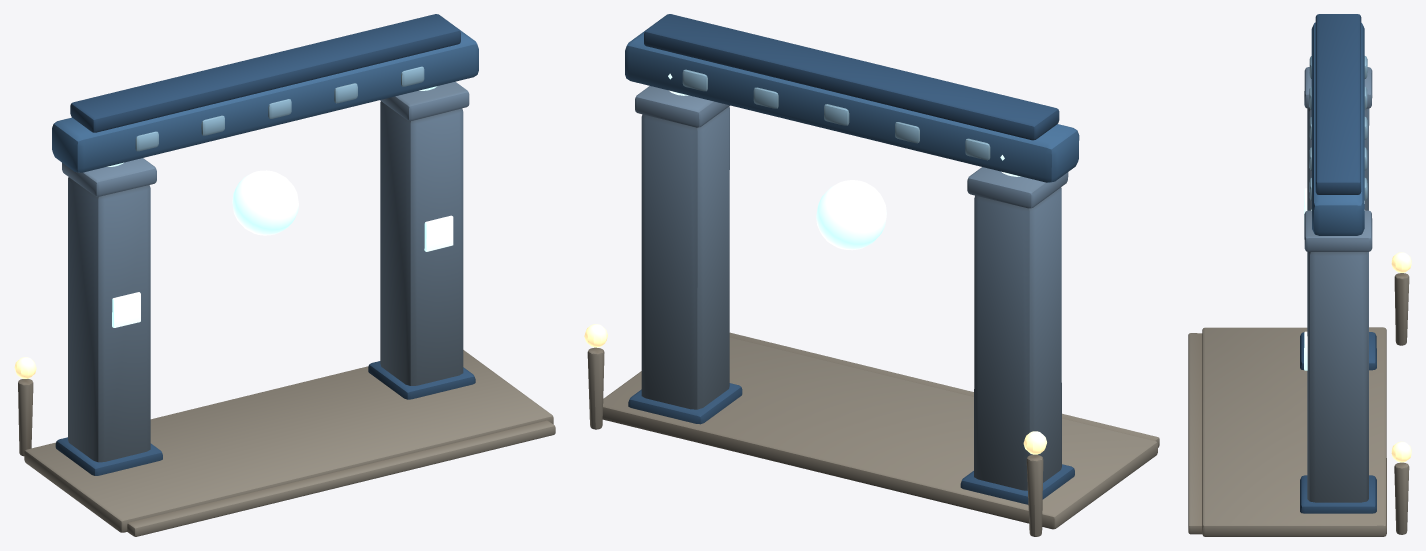
3 renders of one model, left to right at view 1: azimuth 30°, elevation 25°; view 2: azimuth 150°, elevation 25°; view 3: azimuth 270°, elevation 25°, orthographic. The views are drawn at different scales.
Visible parts, largest first — view 1: gate_0b49a28f; view 2: gate_0b49a28f; view 3: gate_0b49a28f.
Boxes of the visible parts, bbox=[...] form: gate_0b49a28f: bbox=[14, 14, 555, 536]; gate_0b49a28f: bbox=[584, 14, 1159, 536]; gate_0b49a28f: bbox=[1188, 14, 1411, 536].
Size of the model in its own units: 5.36 by 4.29 by 2.54.
